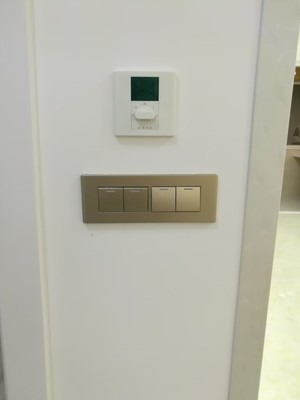switch: (173, 184, 205, 214), (97, 183, 126, 215), (148, 182, 177, 213), (121, 184, 148, 213)
